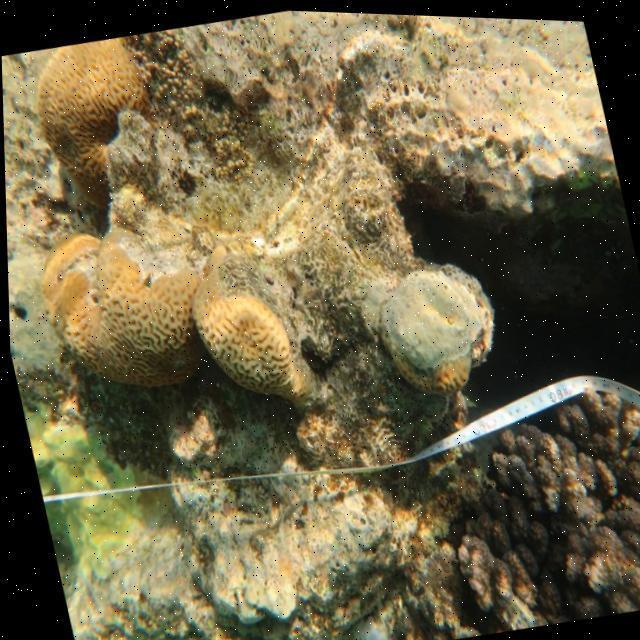Healthy Coral: (26, 206, 206, 387), (178, 238, 329, 438), (9, 29, 170, 202)
